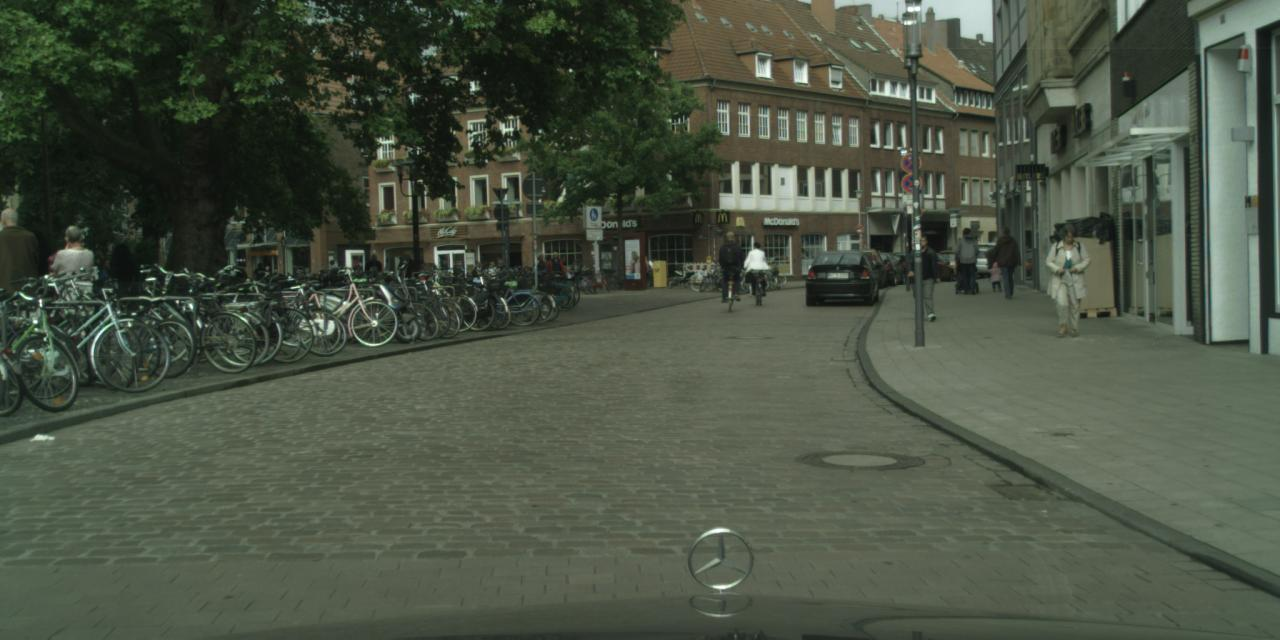ped: (47, 224, 103, 362), (0, 208, 45, 363), (47, 237, 96, 358), (1046, 223, 1090, 334), (906, 233, 941, 320), (992, 225, 1022, 298), (716, 231, 744, 300), (954, 228, 980, 292), (746, 242, 768, 294), (397, 251, 418, 304), (364, 253, 384, 302), (532, 251, 550, 296), (547, 251, 564, 296), (327, 260, 341, 294), (254, 262, 267, 296), (989, 261, 1002, 291)
